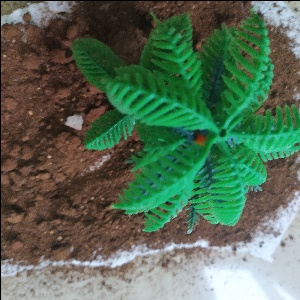plant: (57, 11, 300, 234)
